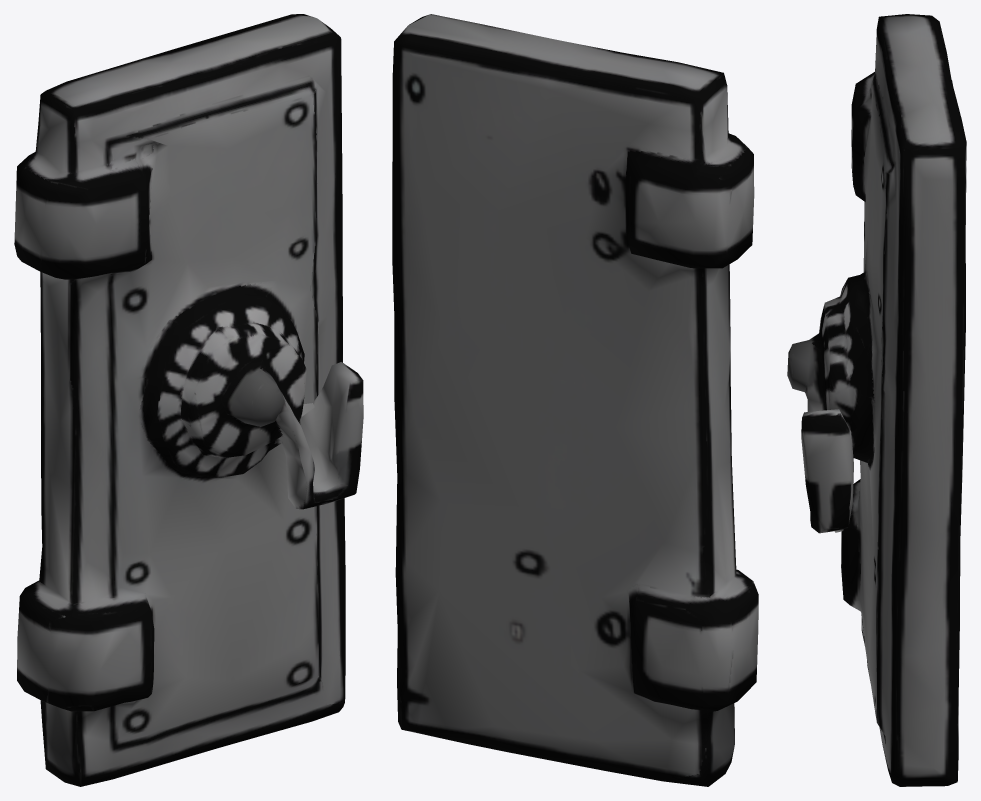
Rendered from vault-door-locked.glb.
The picture shows the model from 3 angles, left to right: view 1: azimuth 30°, elevation 25°; view 2: azimuth 150°, elevation 25°; view 3: azimuth 270°, elevation 25°; orthographic projection. The views are drawn at different scales.
Visible parts, largest first — view 1: geometry_0.001; view 2: geometry_0.001; view 3: geometry_0.001.
Part boxes in pixels (left/top/right/bottom): geometry_0.001: left=14, top=14, right=363, bottom=786; geometry_0.001: left=392, top=14, right=758, bottom=786; geometry_0.001: left=787, top=14, right=966, bottom=786.
Size of the model in its own units: 0.4867 by 0.9999 by 0.251.
Materials: 1 (1 with a texture image).
